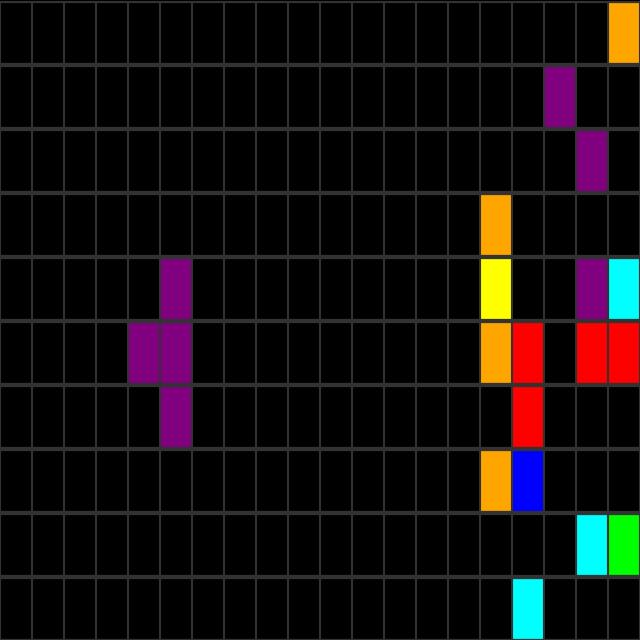Tetrimino_J: (127, 254, 191, 443)
